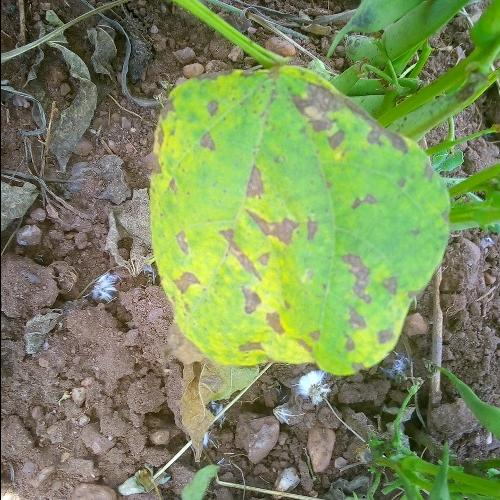hawar: (140, 83, 409, 362)
